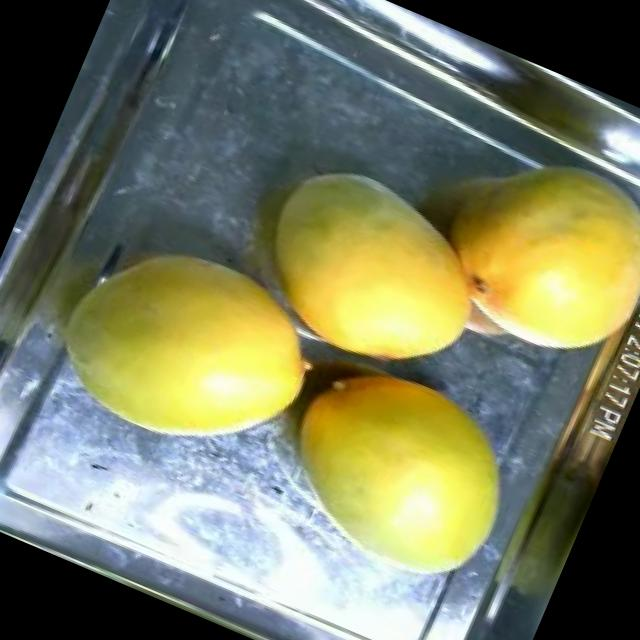fruit: (21, 200, 348, 496), (248, 332, 544, 606), (222, 136, 514, 407), (399, 112, 640, 393)
